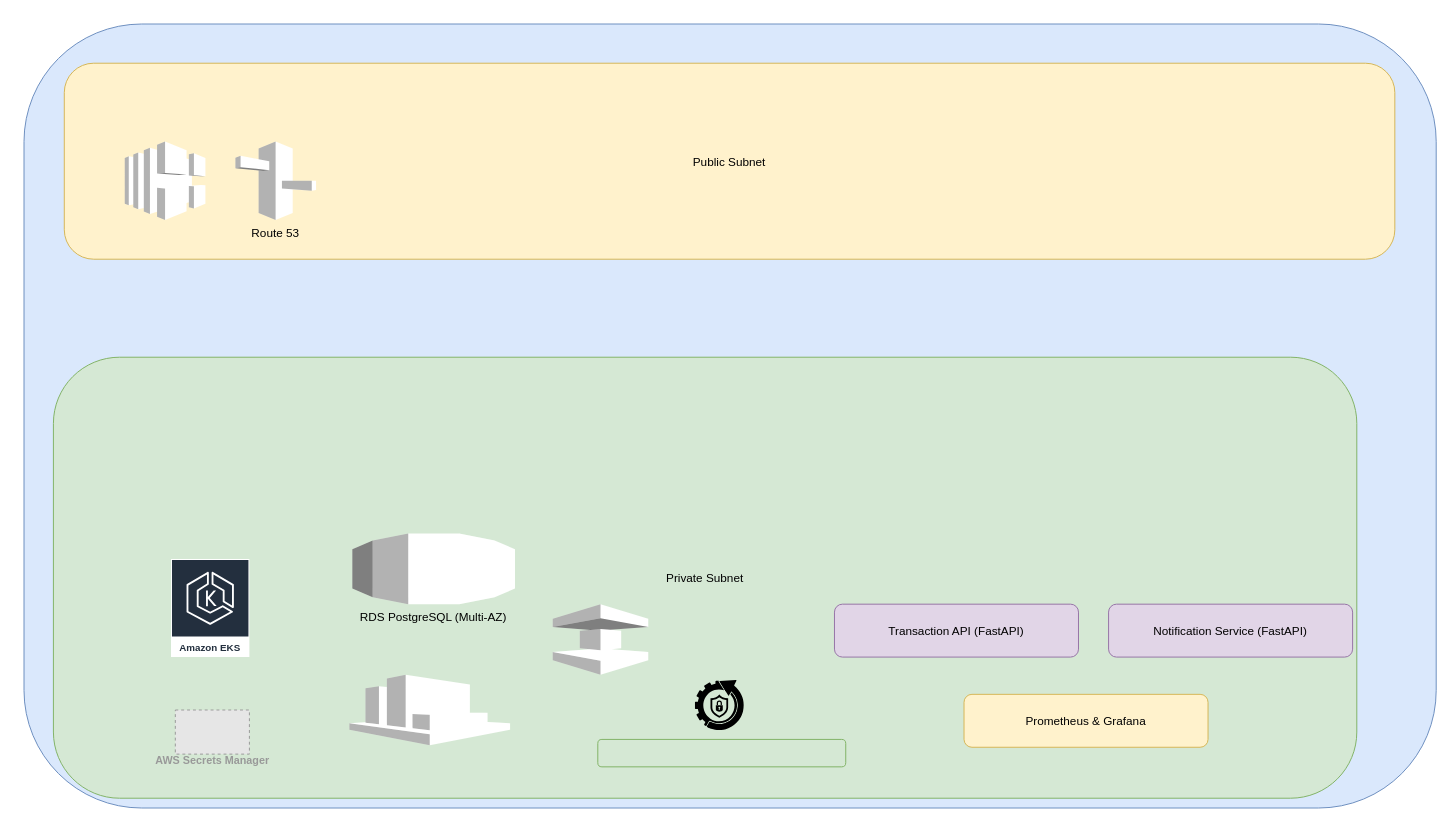
The diagram is 1453 pixels wide and 825 high, and some of its shapes have lost their labels. Grey dashed boxes stand in for pictures. Here are the shapes that lost their labels. From the top down, the centre of each, then its label:
At (x=164, y=180): "Application Load Balancer".
At (x=600, y=639): "ElastiCache Redis".
At (x=429, y=709): "CloudWatch".
At (x=721, y=752): "Istio Service Mesh".
